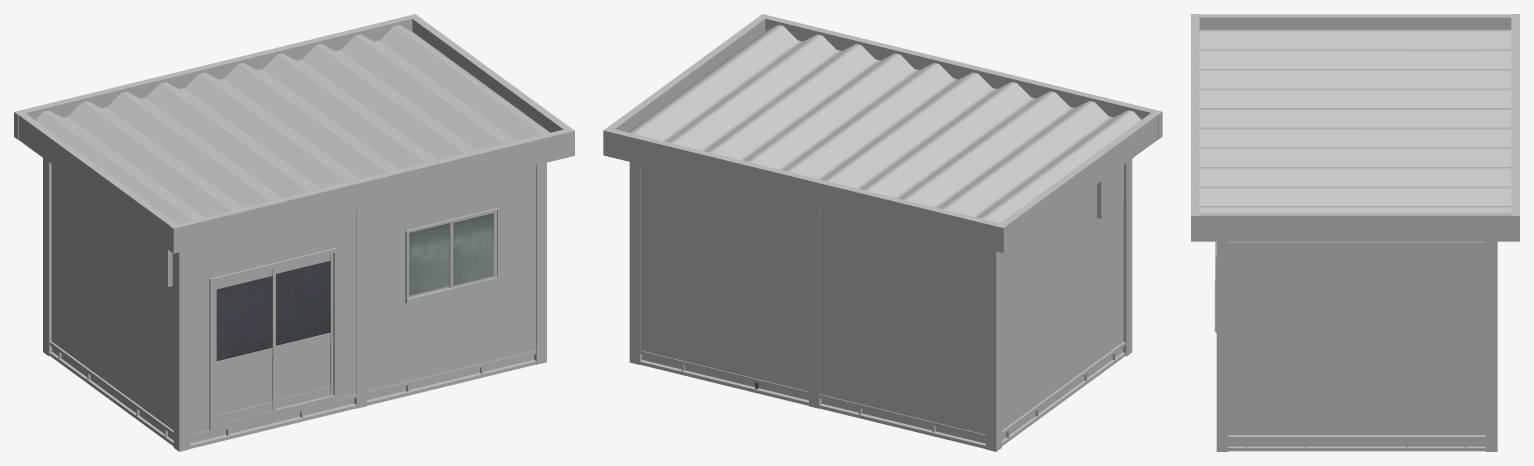
File: Bil_PrefabUnit01a.fbx
The picture shows the model from 3 angles, left to right: view 1: azimuth 30°, elevation 25°; view 2: azimuth 150°, elevation 25°; view 3: azimuth 270°, elevation 25°; orthographic projection. The views are drawn at different scales.
Visible parts, largest first — view 1: Bil_PrefabUnit01a; view 2: Bil_PrefabUnit01a; view 3: Bil_PrefabUnit01a.
Boxes of the visible parts, x1=… form: Bil_PrefabUnit01a: x1=14, y1=14, x2=574, y2=451; Bil_PrefabUnit01a: x1=603, y1=14, x2=1162, y2=451; Bil_PrefabUnit01a: x1=1191, y1=14, x2=1519, y2=451.
Size of the model in its own units: 6.83 by 3.85 by 4.7.
